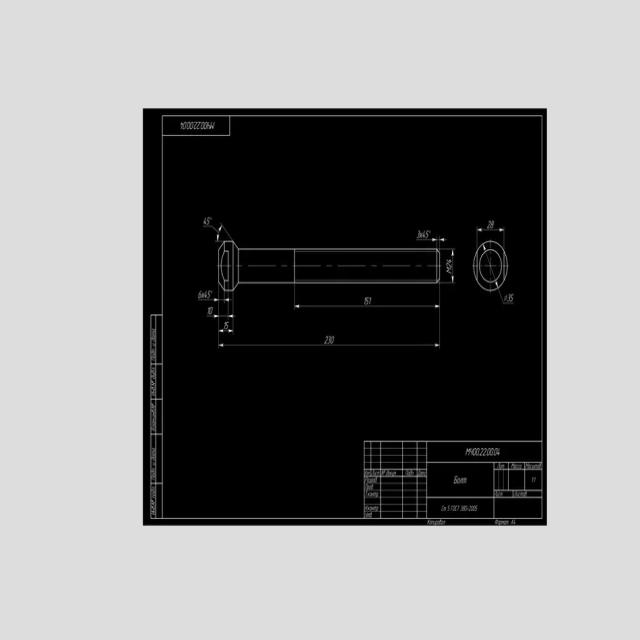marking_line: (195, 291, 442, 349), (292, 284, 441, 311), (195, 292, 235, 339), (197, 292, 237, 321), (202, 215, 234, 241), (198, 291, 235, 305), (441, 248, 455, 284), (476, 227, 505, 241), (416, 238, 449, 247), (498, 289, 515, 305)
numeric: (479, 447, 484, 456), (331, 335, 335, 345), (324, 334, 328, 344), (207, 217, 211, 226), (327, 336, 331, 345), (416, 230, 420, 239), (425, 230, 429, 239), (487, 220, 491, 229), (490, 220, 494, 229), (483, 447, 487, 456), (487, 447, 491, 456), (470, 505, 475, 512), (207, 291, 211, 299), (203, 217, 207, 225), (473, 448, 477, 456), (476, 448, 480, 456), (446, 263, 452, 268), (446, 259, 452, 264), (207, 306, 210, 315), (210, 306, 213, 315), (364, 296, 367, 305), (508, 293, 511, 302), (366, 297, 369, 305), (510, 294, 513, 302), (471, 447, 474, 455), (491, 448, 494, 456), (494, 448, 497, 456), (497, 448, 500, 456), (226, 322, 229, 329), (198, 292, 201, 299), (202, 292, 205, 299), (204, 291, 207, 298), (422, 231, 425, 238), (468, 505, 471, 512), (369, 296, 371, 304), (224, 322, 226, 329), (532, 476, 534, 483), (534, 476, 536, 483), (475, 504, 477, 511), (420, 233, 422, 239)
special_symbol: (504, 294, 508, 302)
